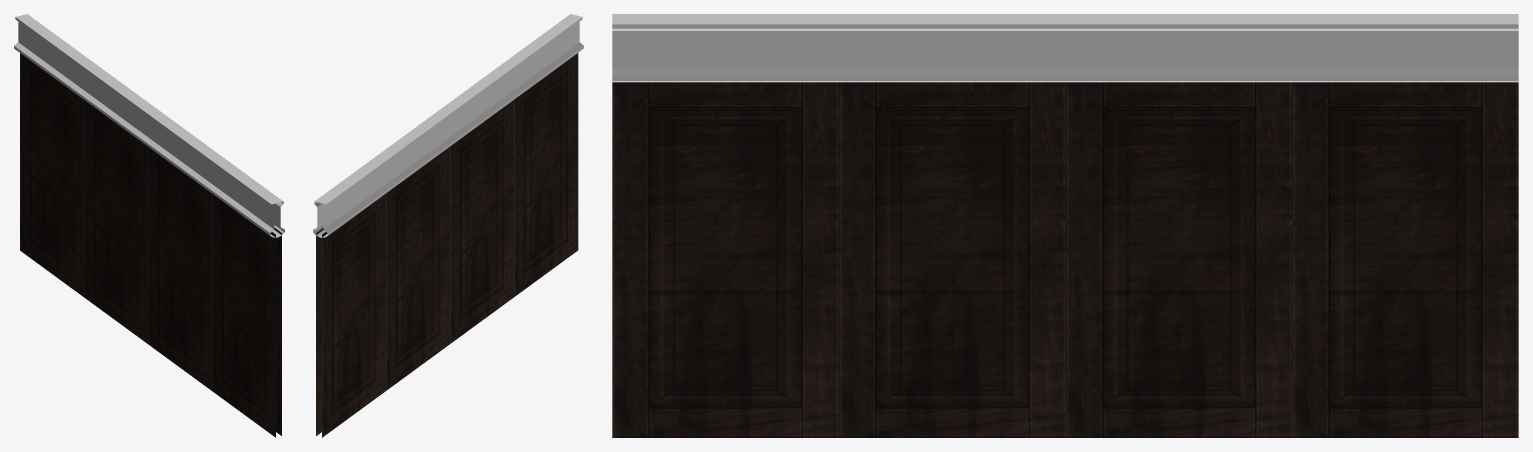
File: engineroom_balcony_office_wall.DAE
The picture shows the model from 3 angles, left to right: view 1: azimuth 30°, elevation 25°; view 2: azimuth 150°, elevation 25°; view 3: azimuth 270°, elevation 25°; orthographic projection. The views are drawn at different scales.
Parts seen in each view (by area): view 1: Box026, balcony_straight_metal013; view 2: Box026, balcony_straight_metal013; view 3: Box026, balcony_straight_metal013.
Boxes of the visible parts, <box> form: Box026: <box>20,53,281,437</box>; balcony_straight_metal013: <box>14,14,284,237</box>; Box026: <box>316,53,578,437</box>; balcony_straight_metal013: <box>313,14,583,237</box>; Box026: <box>612,82,1518,437</box>; balcony_straight_metal013: <box>612,14,1518,82</box>.
Bounding box in the file's own units: 0.2652 × 4.04 × 8.
